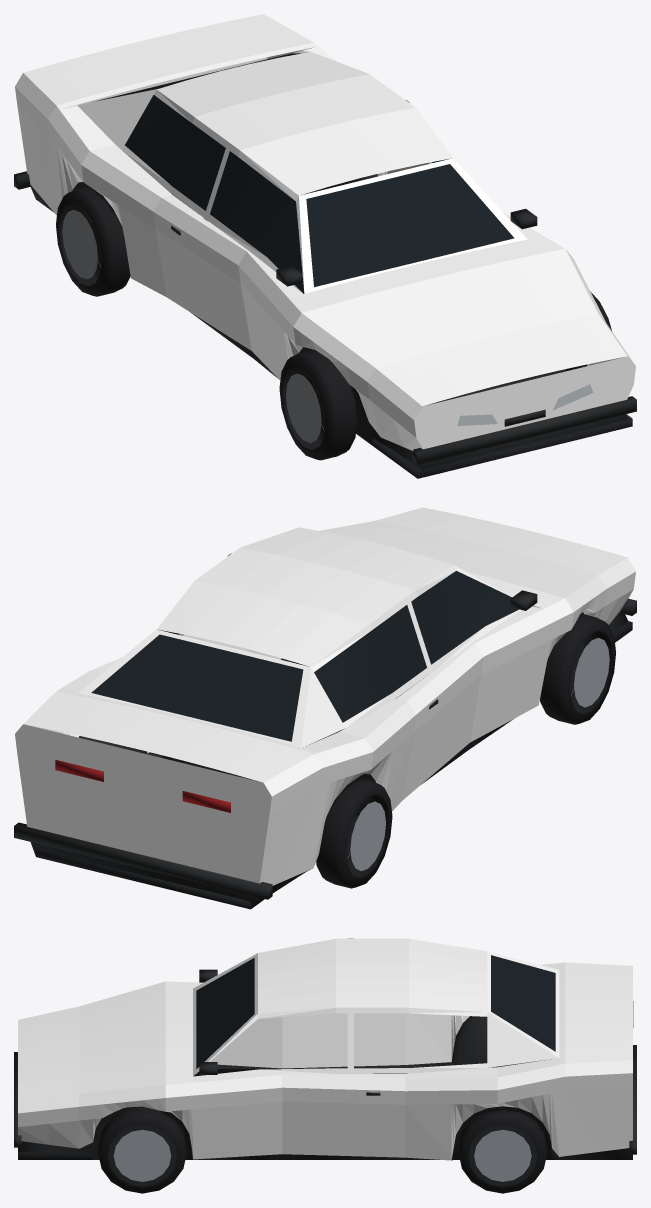
The model's file is sanga_rapina.glb.
3 renders of one model, top to bottom at view 1: azimuth 30°, elevation 25°; view 2: azimuth 150°, elevation 25°; view 3: azimuth 270°, elevation 25°, orthographic. The views are drawn at different scales.
Visible parts, largest first — view 1: Body_Paint, Body_Details, Mount_FrontLeft_Wheel_Details, Mount_RearLeft_Wheel_Details; view 2: Body_Paint, Body_Details, Mount_FrontLeft_Wheel_Details, Mount_RearLeft_Wheel_Details; view 3: Body_Paint, Body_Details, Mount_FrontRight_Wheel_Details, Mount_RearRight_Wheel_Details.
Boxes of the visible parts, bbox=[...] form: Body_Paint: bbox=[15, 14, 635, 450]; Body_Details: bbox=[14, 53, 636, 478]; Mount_FrontLeft_Wheel_Details: bbox=[279, 349, 357, 460]; Mount_RearLeft_Wheel_Details: bbox=[56, 187, 130, 296]; Body_Paint: bbox=[15, 507, 635, 885]; Body_Details: bbox=[14, 571, 636, 909]; Mount_FrontLeft_Wheel_Details: bbox=[540, 613, 615, 724]; Mount_RearLeft_Wheel_Details: bbox=[316, 779, 392, 888]; Body_Paint: bbox=[18, 938, 632, 1160]; Body_Details: bbox=[14, 955, 636, 1160]; Mount_FrontRight_Wheel_Details: bbox=[98, 1106, 186, 1193]; Mount_RearRight_Wheel_Details: bbox=[458, 1110, 547, 1193].
Bounding box in the file's own units: 1.93 × 1.32 × 4.43.
2 materials, 1 textured.
